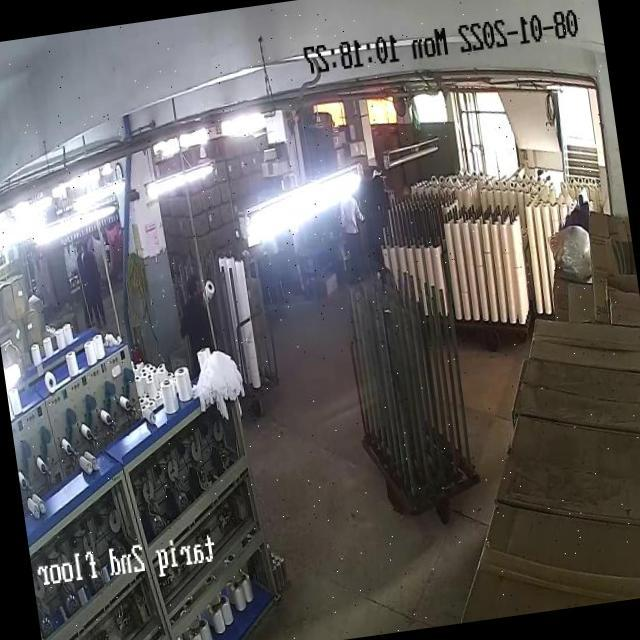person: (178, 267, 208, 344), (334, 189, 369, 254)
